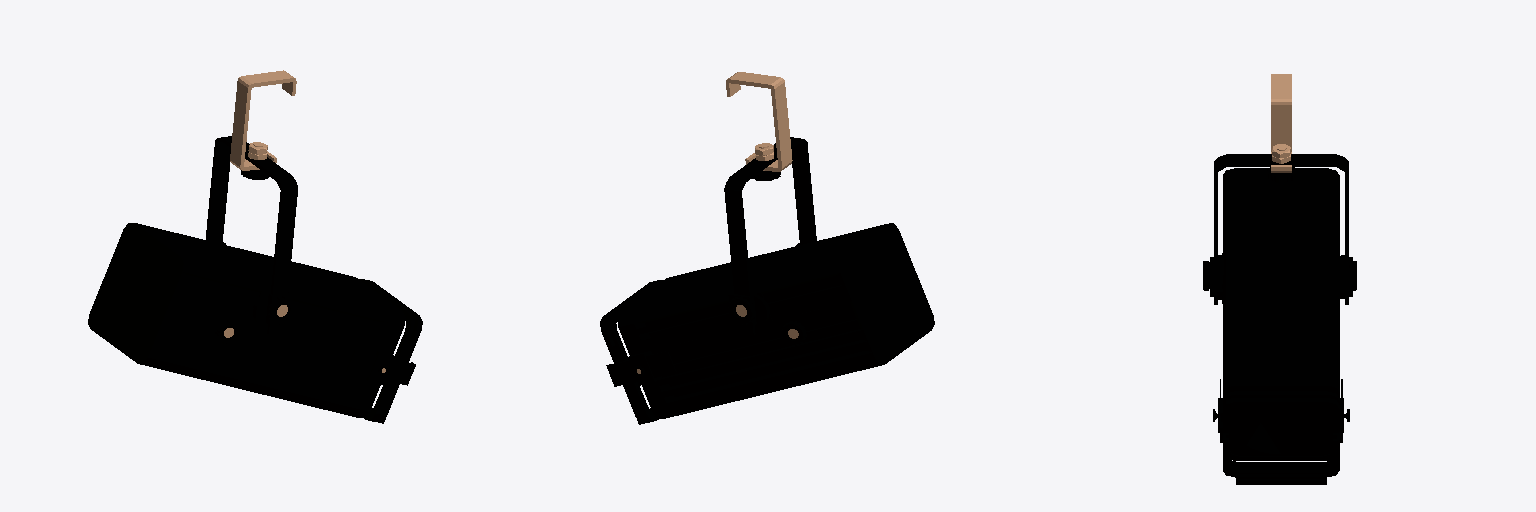
The model's file is faro.obj.
3 renders of one model, left to right at view 1: azimuth 30°, elevation 25°; view 2: azimuth 150°, elevation 25°; view 3: azimuth 270°, elevation 25°, orthographic.
Parts seen in each view (by area): view 1: Cube_Cube.001, hanger_Cube.003; view 2: Cube_Cube.001, hanger_Cube.003; view 3: Cube_Cube.001, hanger_Cube.003.
Part boxes in pixels (left/top/right/bottom): Cube_Cube.001: left=88, top=223, right=422, bottom=423; hanger_Cube.003: left=206, top=70, right=297, bottom=333; Cube_Cube.001: left=600, top=223, right=934, bottom=424; hanger_Cube.003: left=724, top=72, right=816, bottom=335; Cube_Cube.001: left=1213, top=168, right=1349, bottom=484; hanger_Cube.003: left=1203, top=74, right=1356, bottom=304.
Size of the model in its own units: 5.55 by 6.67 by 2.61.